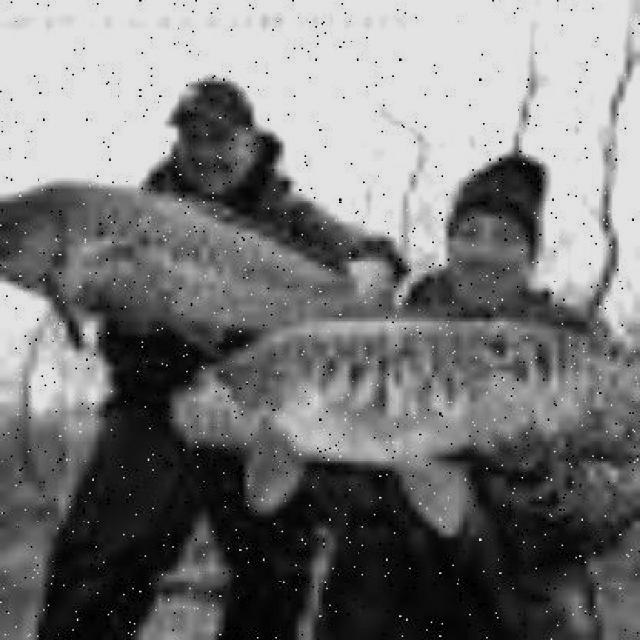ikan-mas: (188, 304, 634, 498), (2, 163, 396, 329)
